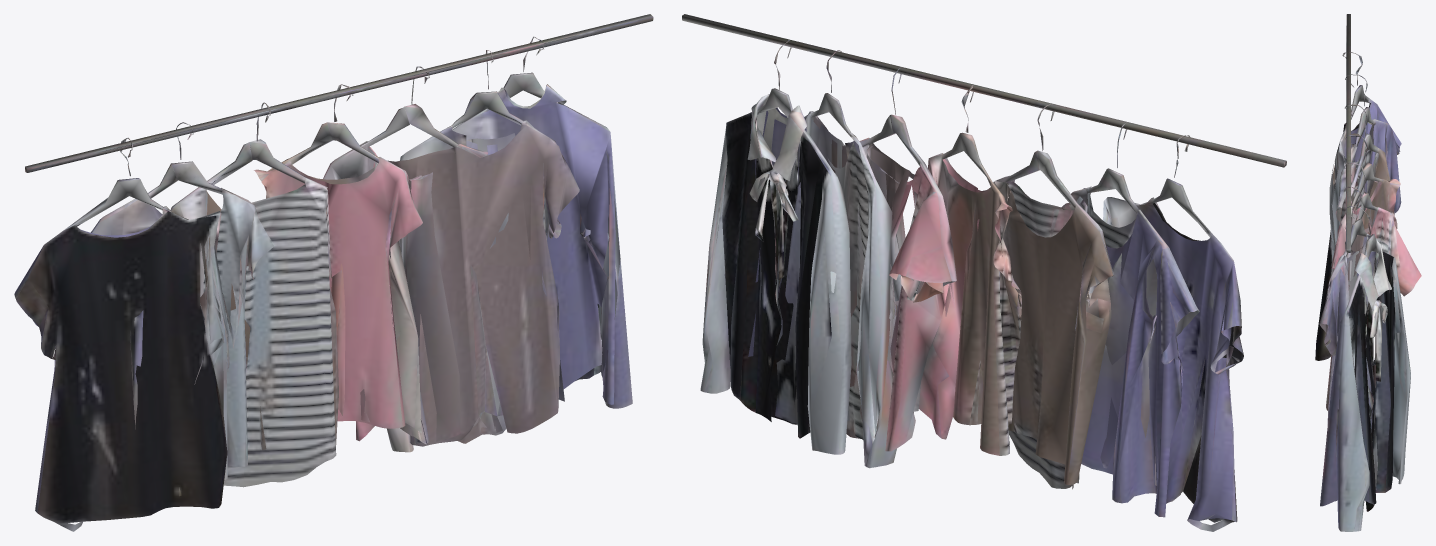
Rendered from mall-womens-blouses-group.glb.
3 renders of one model, left to right at view 1: azimuth 30°, elevation 25°; view 2: azimuth 150°, elevation 25°; view 3: azimuth 270°, elevation 25°, orthographic. The views are drawn at different scales.
Parts seen in each view (by area): view 1: womens-blouses-group; view 2: womens-blouses-group; view 3: womens-blouses-group.
Part boxes in pixels (box(x1,y1,x2,y2)): womens-blouses-group: box(14, 14, 653, 531); womens-blouses-group: box(682, 14, 1286, 531); womens-blouses-group: box(1315, 14, 1421, 531).
Bounding box in the file's own units: 1.08 × 0.65 × 0.2057.
1 material, 1 textured.
